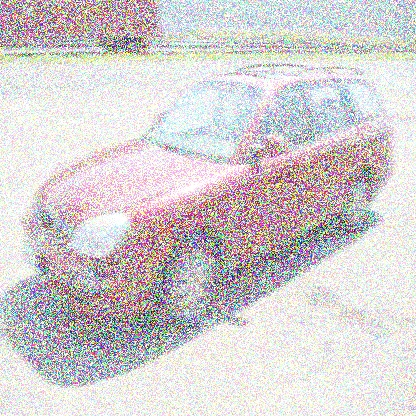Vehicle: (23, 61, 394, 334)
